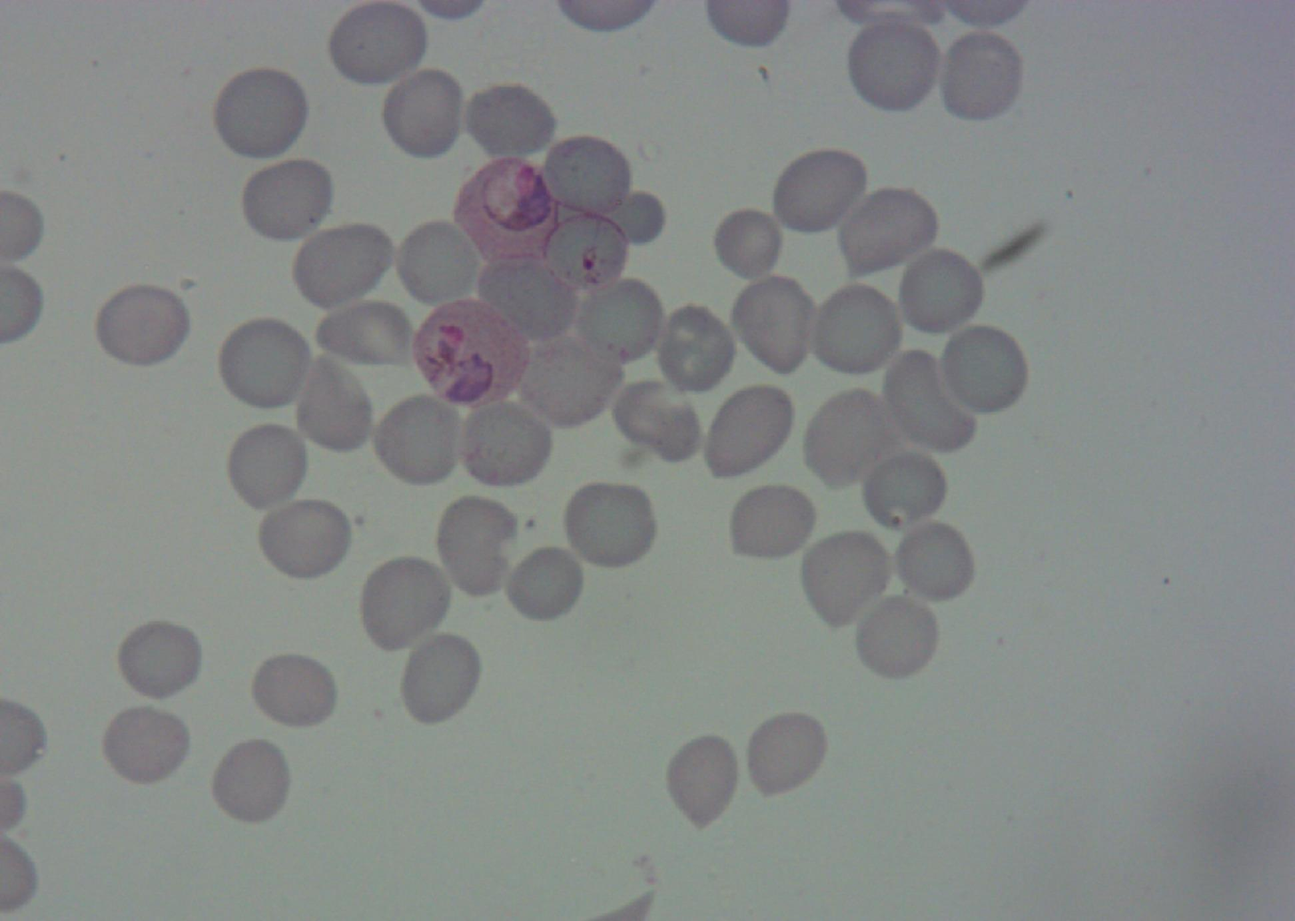Infected: (412, 295, 533, 409), (452, 159, 559, 266)
Uninfected: (883, 348, 981, 450), (701, 380, 797, 484), (834, 186, 941, 278), (215, 315, 316, 412), (847, 12, 944, 113), (430, 493, 524, 595), (520, 340, 624, 432), (807, 281, 905, 378), (799, 391, 897, 486), (560, 477, 659, 571), (211, 65, 308, 160), (328, 0, 431, 89), (803, 525, 894, 625), (238, 155, 338, 244), (295, 220, 398, 306), (372, 392, 466, 486), (937, 322, 1029, 418), (935, 28, 1027, 124), (456, 395, 552, 487), (361, 552, 452, 649), (771, 148, 870, 237), (480, 258, 586, 341), (730, 276, 819, 374), (290, 356, 377, 456), (894, 245, 987, 338), (378, 65, 468, 160), (95, 284, 191, 373), (651, 301, 738, 395), (99, 701, 195, 786), (395, 634, 484, 725), (851, 591, 942, 680), (224, 420, 312, 512), (575, 277, 667, 365), (208, 735, 295, 826), (742, 708, 831, 796), (114, 617, 206, 702), (259, 496, 352, 580), (394, 219, 482, 307), (318, 296, 418, 373), (612, 378, 701, 464), (665, 728, 741, 828), (247, 651, 340, 732), (544, 138, 632, 220), (502, 541, 586, 623), (727, 484, 815, 561), (468, 86, 560, 158), (864, 452, 950, 528), (895, 519, 977, 598), (709, 206, 788, 285), (578, 186, 666, 249)
